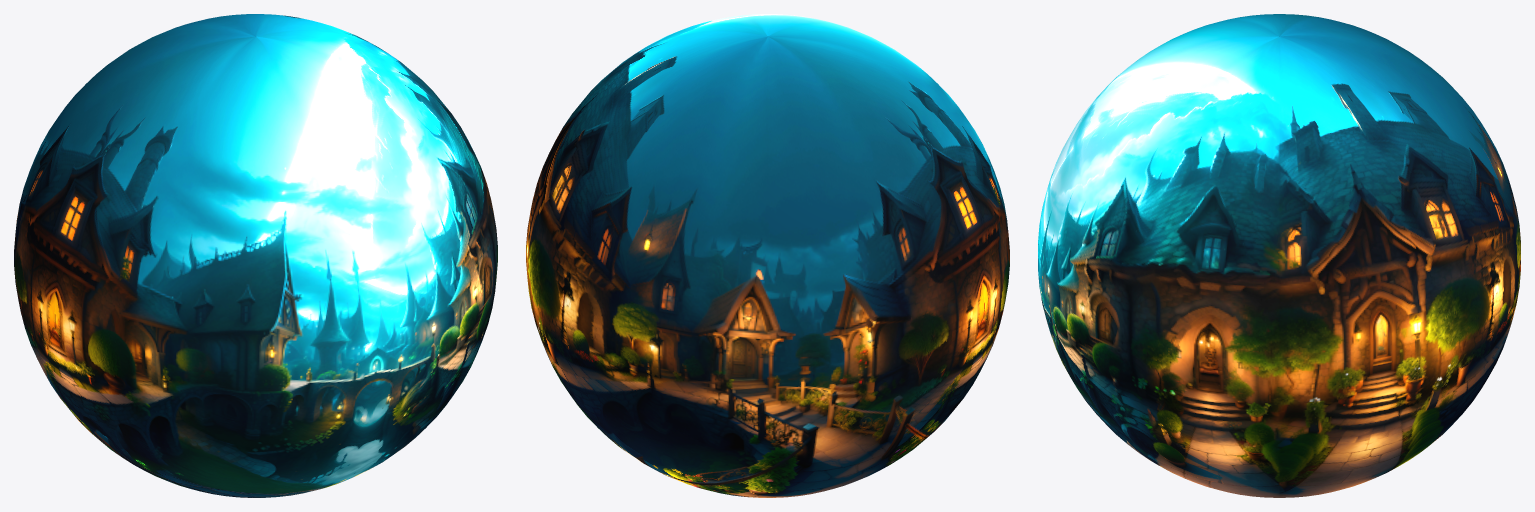
Rendered from garden.glb.
3 views of the same model, side by side, from view 1: azimuth 30°, elevation 25°; view 2: azimuth 150°, elevation 25°; view 3: azimuth 270°, elevation 25° (orthographic).
Visible parts, largest first — view 1: Fairytale_Garden; view 2: Fairytale_Garden; view 3: Fairytale_Garden.
Part boxes in pixels (<box>): Fairytale_Garden: <box>14,14,497,497</box>; Fairytale_Garden: <box>526,14,1009,497</box>; Fairytale_Garden: <box>1038,14,1520,497</box>.
Bounding box in the file's own units: 0.2478 × 0.248 × 0.2473.
1 material, 1 textured.
